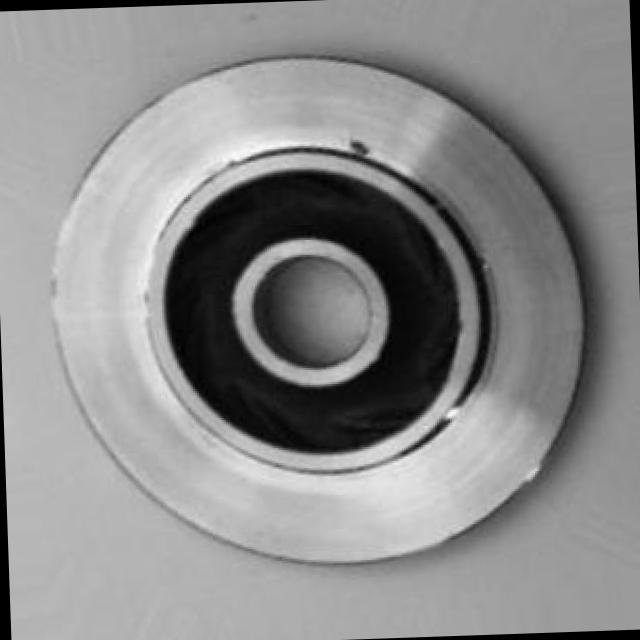Defect: (346, 126, 380, 170)
